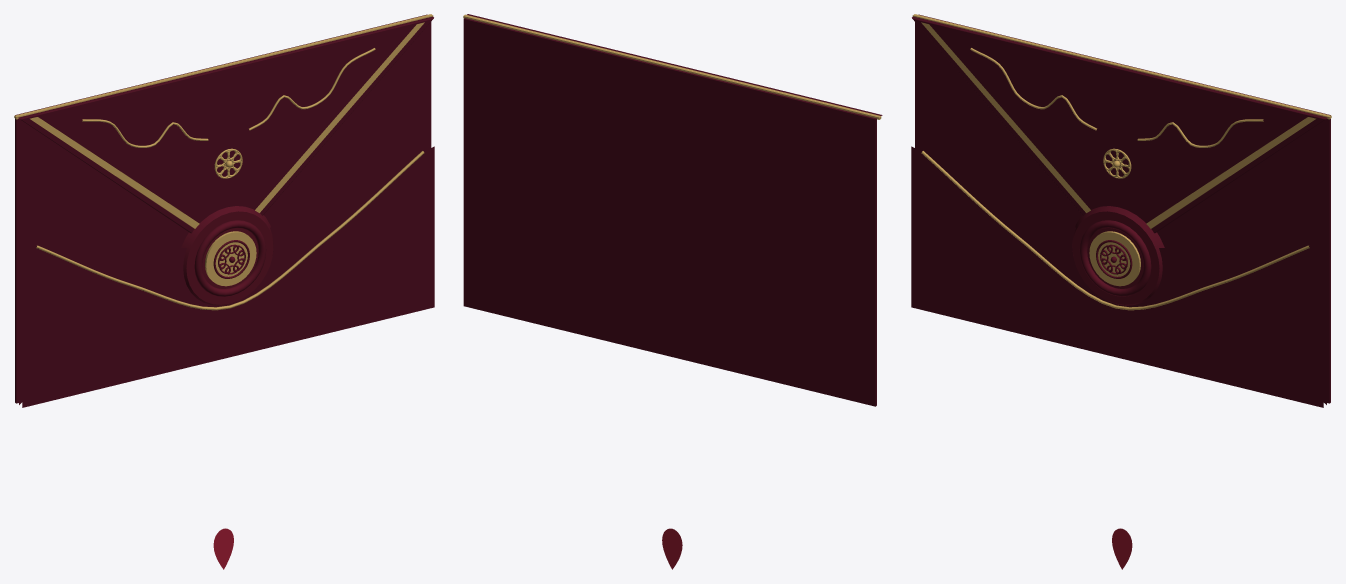
Rendered from luxury_envelope.glb.
The picture shows the model from 3 angles, left to right: view 1: azimuth 30°, elevation 25°; view 2: azimuth 150°, elevation 25°; view 3: azimuth 330°, elevation 25°; orthographic projection.
Visible parts, largest first — view 1: Envelope_Pocket, Envelope_Flap, object 4, object 5, Wax_Seal, Flap_Gold_Trim, Seal_Monogram, Pocket_Foil_Seam, Envelope_Body, Gold_Ornament, Seal_Floral_Engraving, Rose_Petal; view 2: Envelope_Body, Gold_Ornament, Envelope_Flap, Rose_Petal; view 3: Envelope_Pocket, Envelope_Flap, object 5, object 4, Wax_Seal, Flap_Gold_Trim, Seal_Monogram, Pocket_Foil_Seam, Envelope_Body, Gold_Ornament, Seal_Floral_Engraving, Rose_Petal.
Part boxes in pixels (x1,y1,x2,y2): Envelope_Pocket: (22, 146, 434, 407); Envelope_Flap: (18, 16, 433, 233); object 4: (19, 119, 188, 404); object 5: (264, 22, 431, 226); Wax_Seal: (181, 206, 273, 305); Flap_Gold_Trim: (30, 22, 424, 228); Seal_Monogram: (205, 231, 256, 286); Pocket_Foil_Seam: (36, 151, 424, 310); Envelope_Body: (15, 14, 427, 403); Gold_Ornament: (14, 14, 433, 119); Seal_Floral_Engraving: (213, 240, 249, 278); Rose_Petal: (213, 528, 233, 569); Envelope_Body: (463, 18, 876, 406); Gold_Ornament: (463, 14, 881, 119); Envelope_Flap: (467, 14, 882, 115); Rose_Petal: (662, 528, 682, 569); Envelope_Pocket: (911, 146, 1323, 407); Envelope_Flap: (912, 16, 1327, 233); object 5: (1157, 119, 1326, 404); object 4: (915, 22, 1081, 226); Wax_Seal: (1072, 206, 1164, 305); Flap_Gold_Trim: (921, 22, 1315, 228); Seal_Monogram: (1089, 231, 1140, 286); Pocket_Foil_Seam: (921, 151, 1309, 310); Envelope_Body: (918, 14, 1330, 403); Gold_Ornament: (912, 14, 1331, 119); Seal_Floral_Engraving: (1096, 240, 1132, 278); Rose_Petal: (1112, 528, 1132, 569).
Size of the model in its own units: 3.64 by 4.21 by 0.1888.
